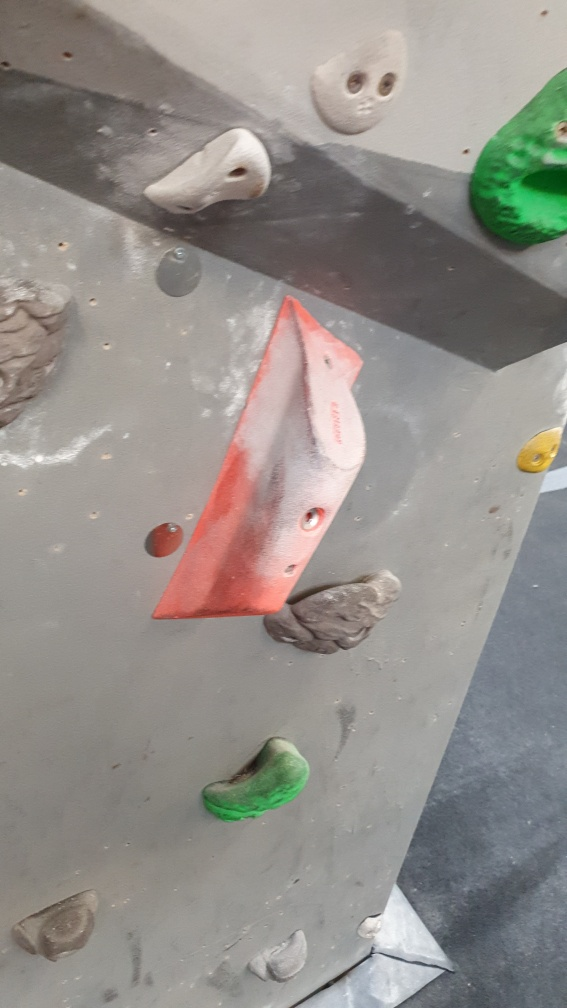Hand Start: (152, 243, 205, 303), (140, 521, 190, 560)
Jug: (258, 565, 403, 656), (196, 735, 313, 824), (251, 930, 316, 987)
Pinch: (147, 293, 368, 635)
